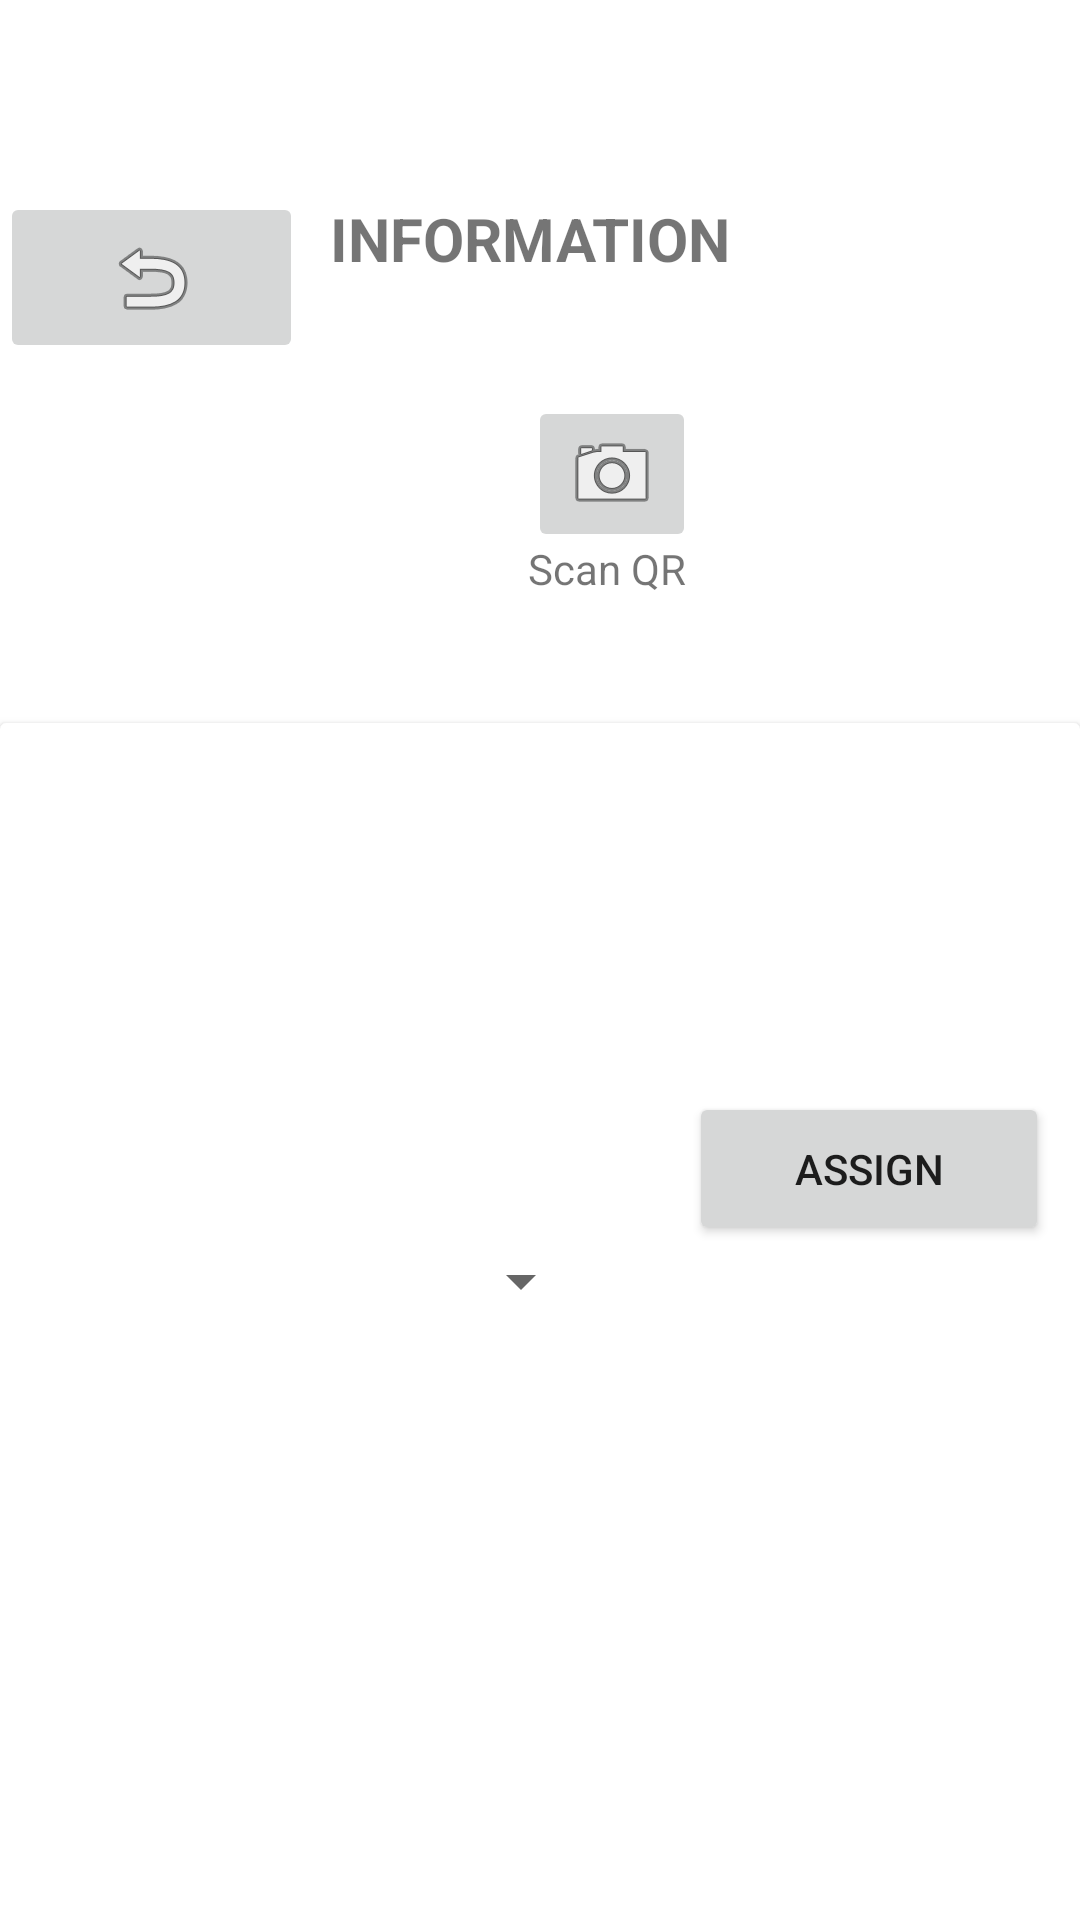

Icon bounding boxes for this 1080 × 1920 phone screenshot, format (x1, y1, x2, y2):
Go back: (12, 210, 291, 345)
